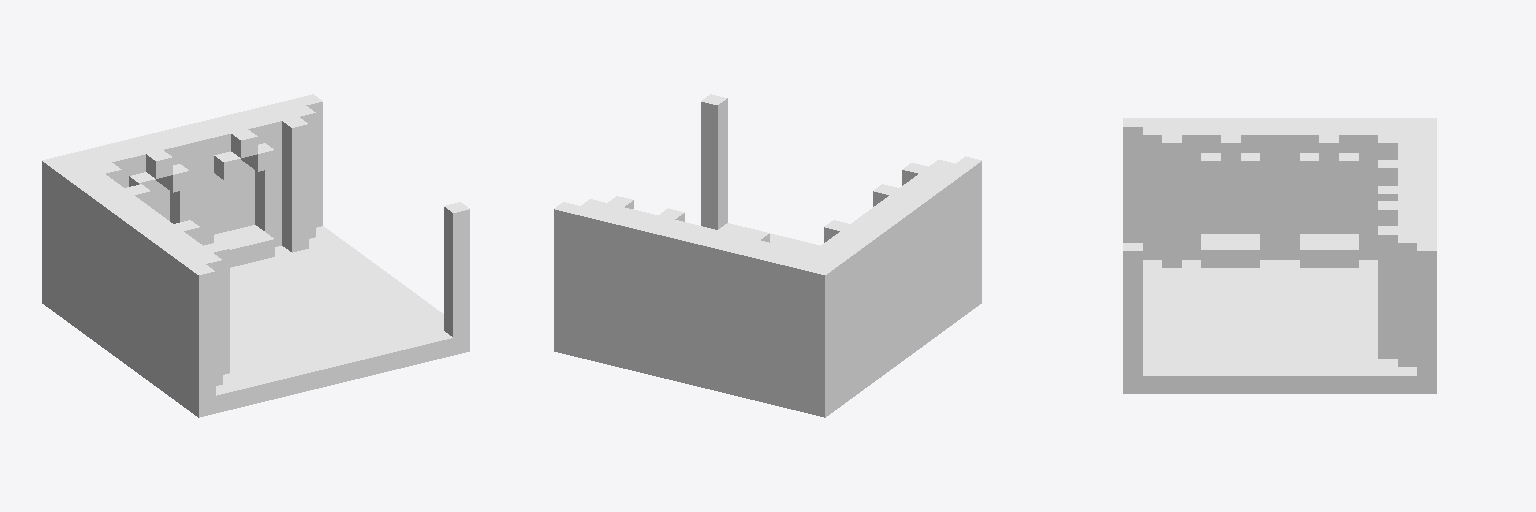
Rendered from towar-32.obj.
3 renders of one model, left to right at view 1: azimuth 30°, elevation 25°; view 2: azimuth 150°, elevation 25°; view 3: azimuth 270°, elevation 25°, orthographic.
Visible parts, largest first — view 1: towar-32; view 2: towar-32; view 3: towar-32.
Boxes of the visible parts, x1,y1,x2,y2 form: towar-32: [42, 94, 469, 417]; towar-32: [554, 94, 981, 417]; towar-32: [1123, 118, 1436, 393].
Bounding box in the file's own units: 16 × 8 × 16.